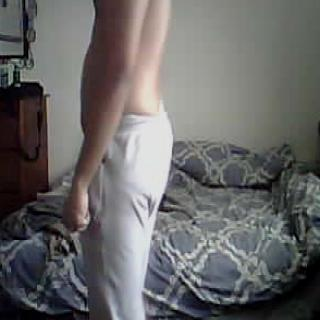White Sweatpants: (75, 115, 172, 320)
